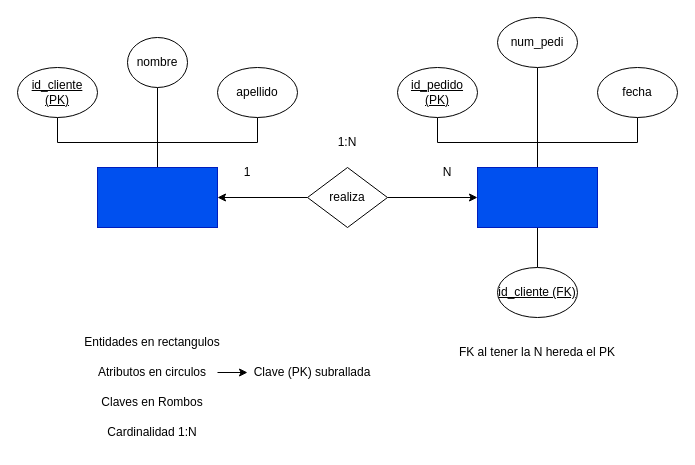
This 695x465 diagram has some shape labels left out. Each missing label, with the centre of its shape:
"Cliente" belongs at (x=157, y=197).
"Pedido" belongs at (x=537, y=197).
